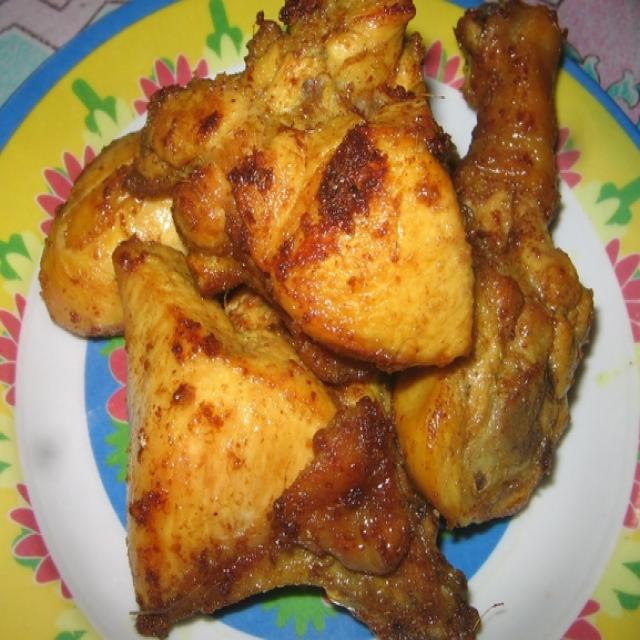鸡肉料理 含炸鸡: (11, 24, 616, 620)
